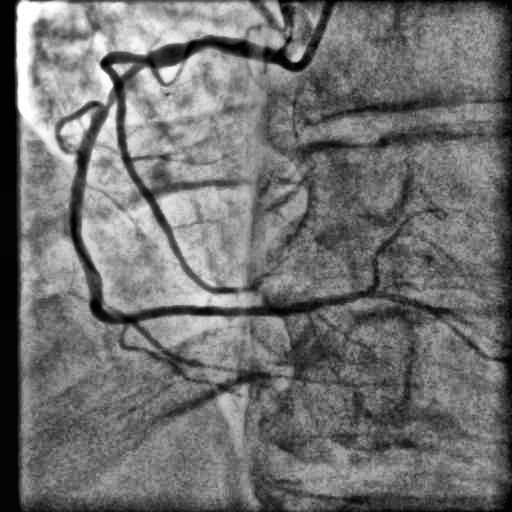pborca: (372, 206, 438, 289)
pda: (375, 291, 502, 363)
rca: (70, 36, 374, 323)
